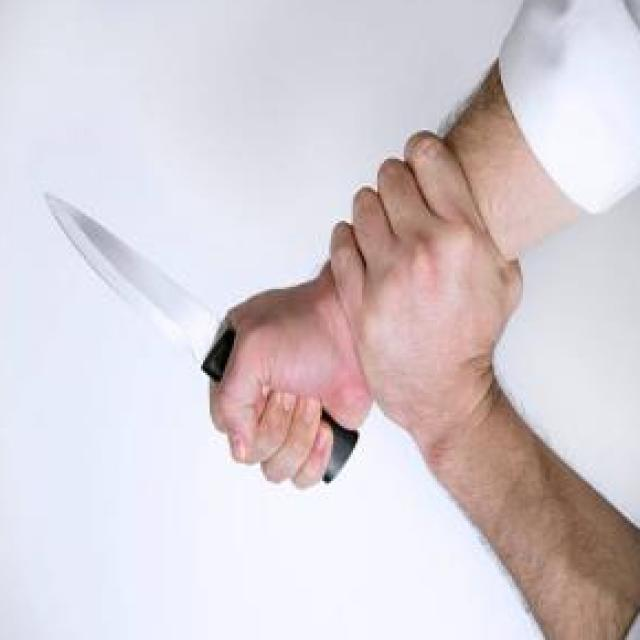knife: (41, 188, 366, 483)
